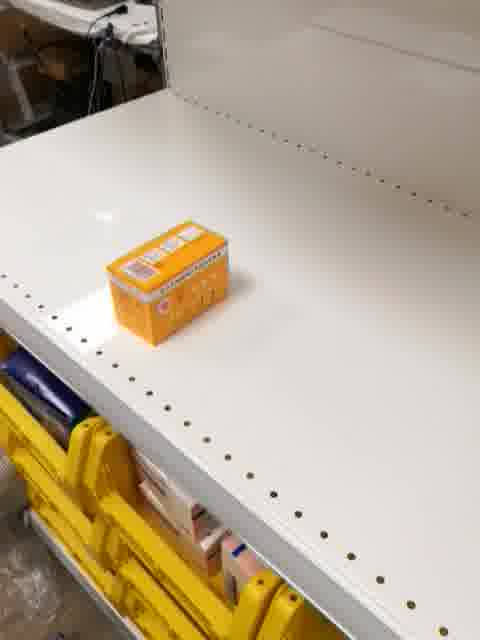jasminetea: (107, 219, 231, 347)
